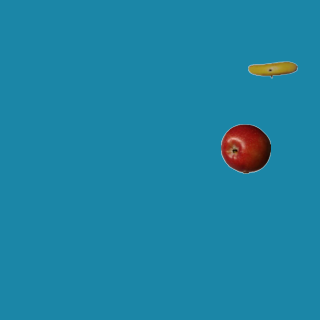Apple Braeburn: (220, 123, 270, 173)
Banana: (247, 44, 297, 94)
